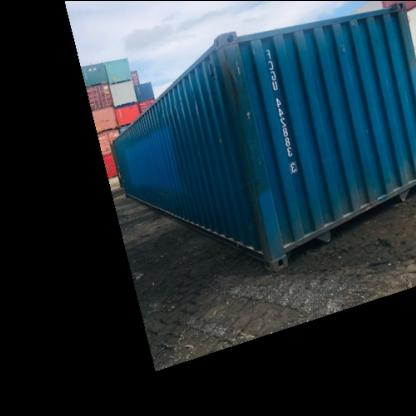Damage: (220, 57, 258, 124), (153, 100, 193, 121)
